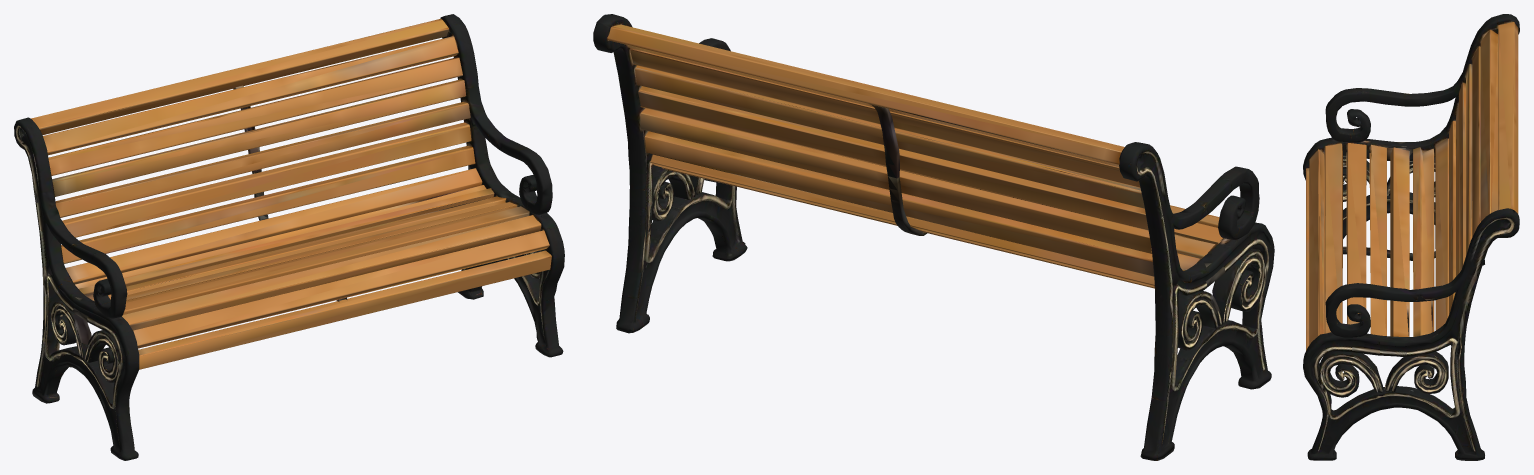
File: bench_slatted.glb
The picture shows the model from 3 angles, left to right: view 1: azimuth 30°, elevation 25°; view 2: azimuth 150°, elevation 25°; view 3: azimuth 270°, elevation 25°; orthographic projection. The views are drawn at different scales.
Visible parts, largest first — view 1: prop; view 2: prop; view 3: prop.
Part boxes in pixels (x1,y1,x2,y2): prop: (14, 14, 564, 460); prop: (593, 14, 1274, 460); prop: (1303, 14, 1519, 460).
Bounding box in the file's own units: 1.8 × 1.02 × 0.8139.
Materials: 1 (1 with a texture image).
